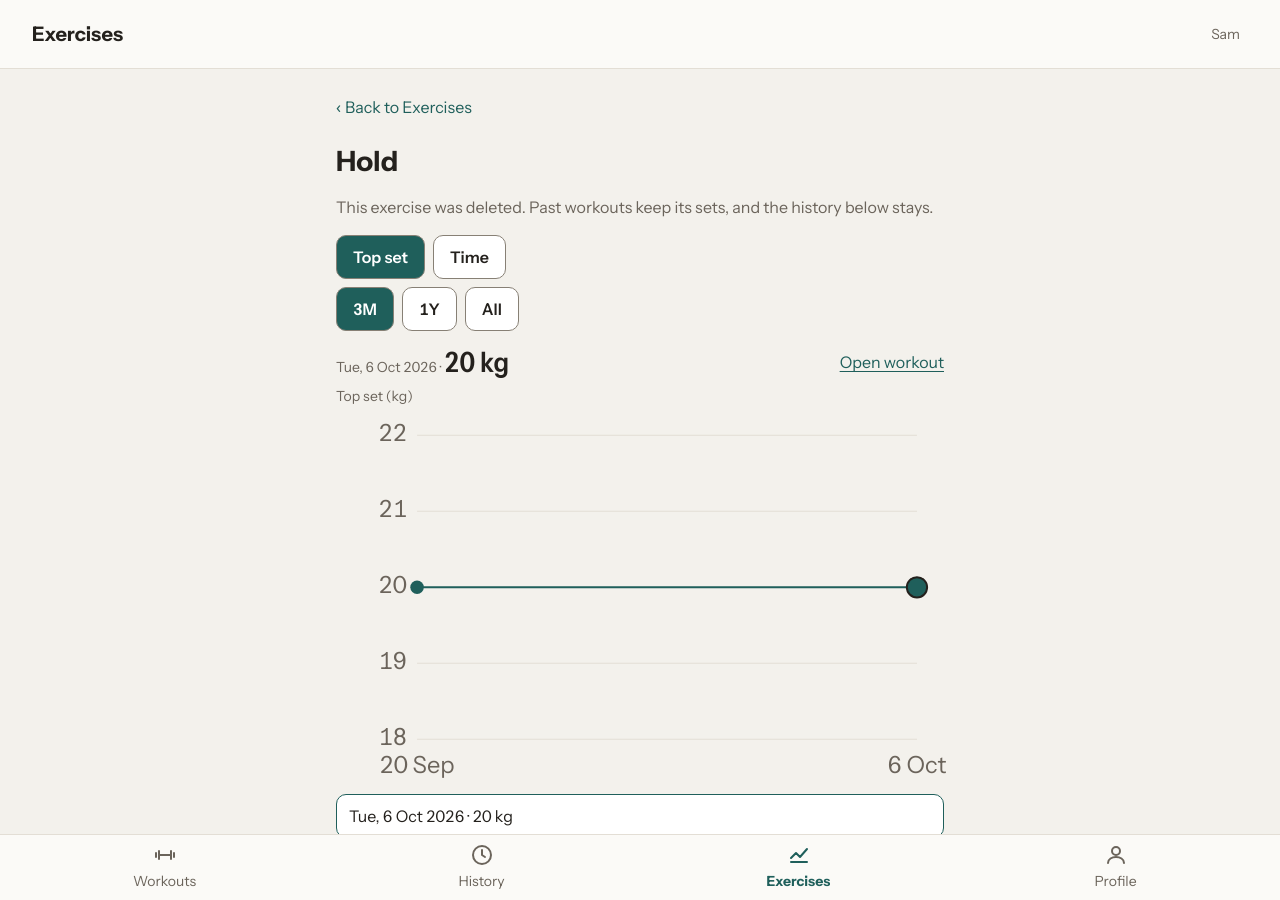
Test: 18.1 AC32 — integer ticks for calories and time › a hold's Time chart is captioned in seconds, and the readout says it in words
The image size is (1280, 900).
Expected: the picture named "Top set," is shown, [336,415,944,786]
Click the button "Time" at (469, 257), box [433,235,506,279]
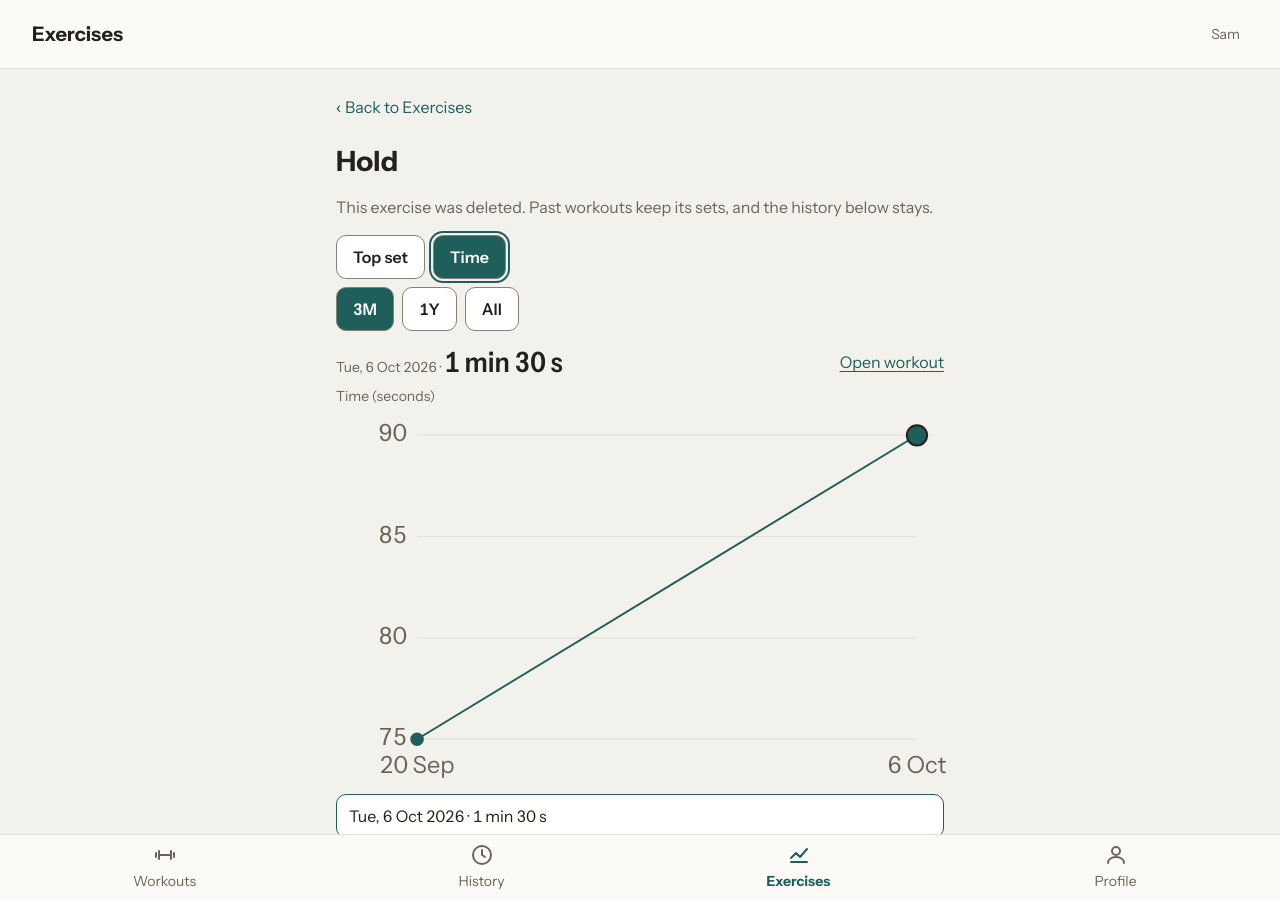
Expected: the text "Time (seconds)" is shown, [336,387,435,405]
